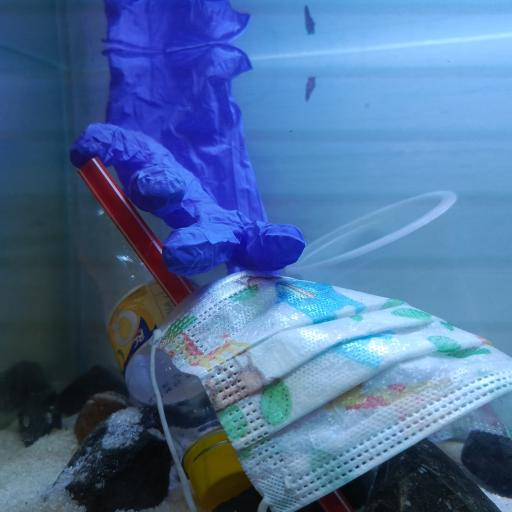bottle_cap: (185, 443, 251, 511)
glove: (71, 42, 307, 278)
mask: (149, 266, 512, 512)
plastic_bottle: (79, 202, 253, 510)
plastic_cup: (304, 192, 486, 337)
plastic_straw: (75, 156, 352, 512)
